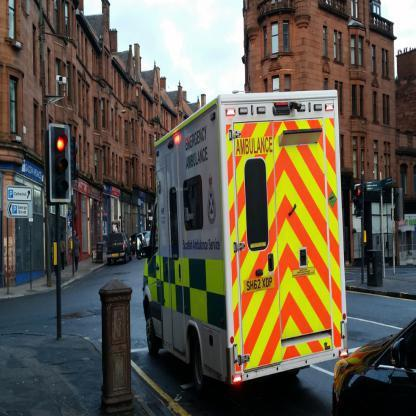Ambulance - v1 Ambulance last generate: (141, 91, 350, 405)
